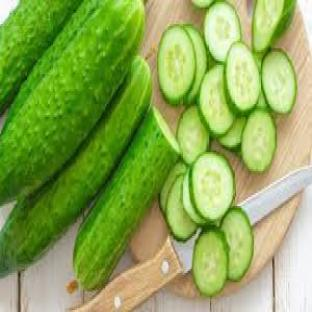Cucumber: (0, 58, 151, 276), (74, 108, 178, 289), (158, 25, 196, 103), (191, 153, 235, 220), (199, 65, 235, 137), (225, 43, 261, 113), (193, 227, 228, 297), (221, 208, 253, 282), (204, 2, 241, 63), (262, 51, 297, 113), (242, 110, 276, 172), (167, 177, 197, 241), (184, 25, 208, 105), (177, 106, 209, 163), (160, 162, 187, 213), (183, 169, 206, 226), (219, 117, 246, 150), (256, 84, 268, 109)
